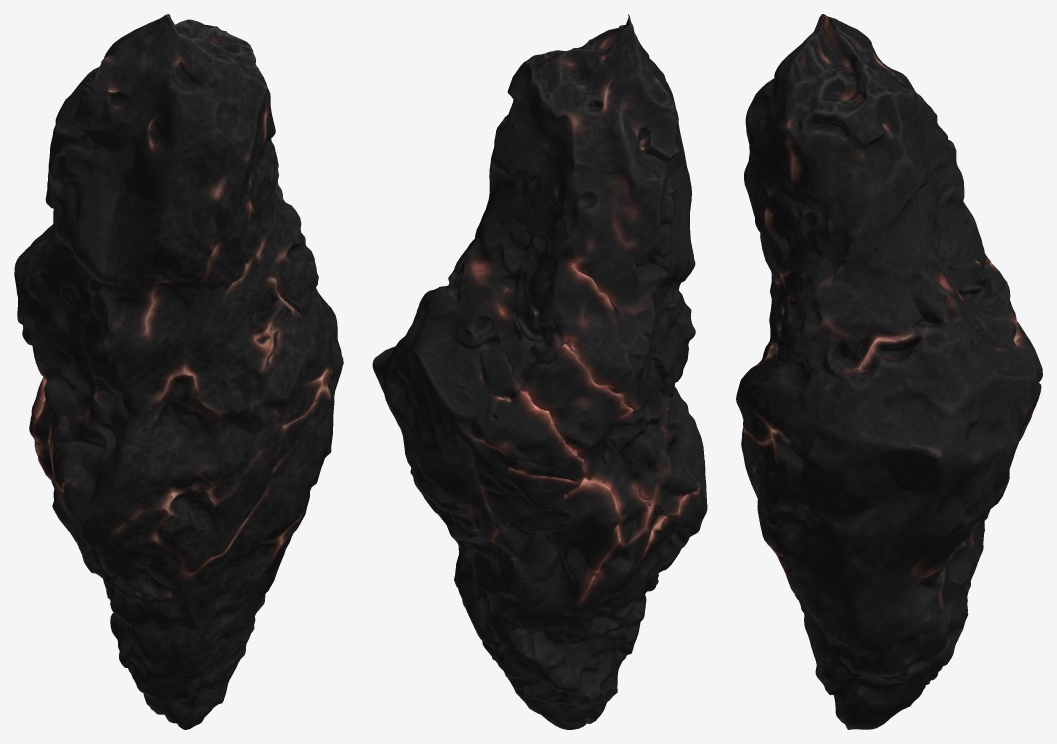
File: shard-01-low.glb
The picture shows the model from 3 angles, left to right: view 1: azimuth 30°, elevation 25°; view 2: azimuth 150°, elevation 25°; view 3: azimuth 270°, elevation 25°; orthographic projection. The views are drawn at different scales.
Parts seen in each view (by area): view 1: Onyx_Shard_Web; view 2: Onyx_Shard_Web; view 3: Onyx_Shard_Web.
Part boxes in pixels (x1,y1,x2,y2): Onyx_Shard_Web: (14,14,343,729); Onyx_Shard_Web: (372,14,707,729); Onyx_Shard_Web: (736,14,1042,729).
Size of the model in its own units: 0.8135 by 1.95 by 0.775.
1 material, 1 textured.
